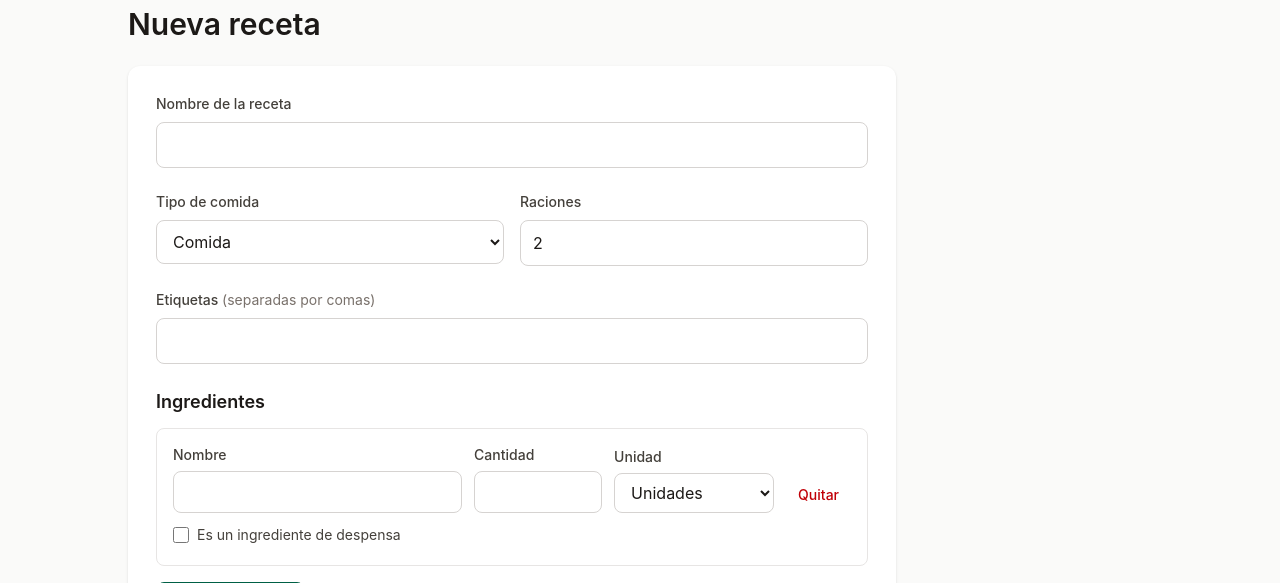
recipe catalog › requires at least one ingredient before saving
The image size is (1280, 583).
Step 1. Type "Sopa" into the field labelled "Nombre de la receta" → (512, 145), box [156,122,868,168]
(page scrolled)
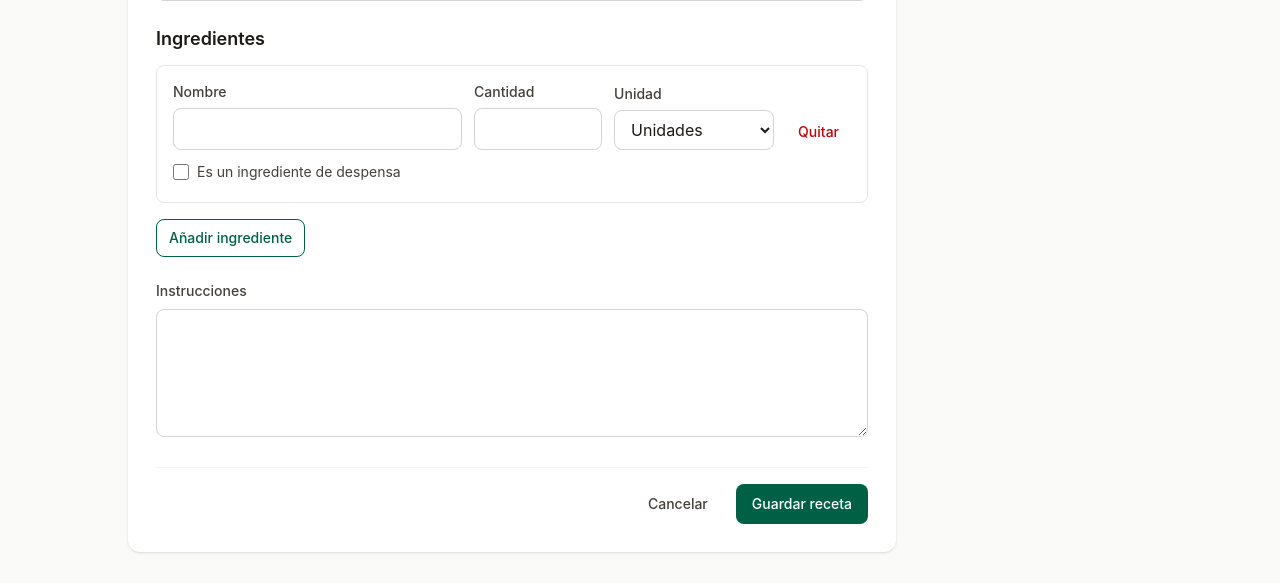
Step 2. Type "Hervir." into the text box labelled "Instrucciones" → (512, 373), box [156,309,868,437]
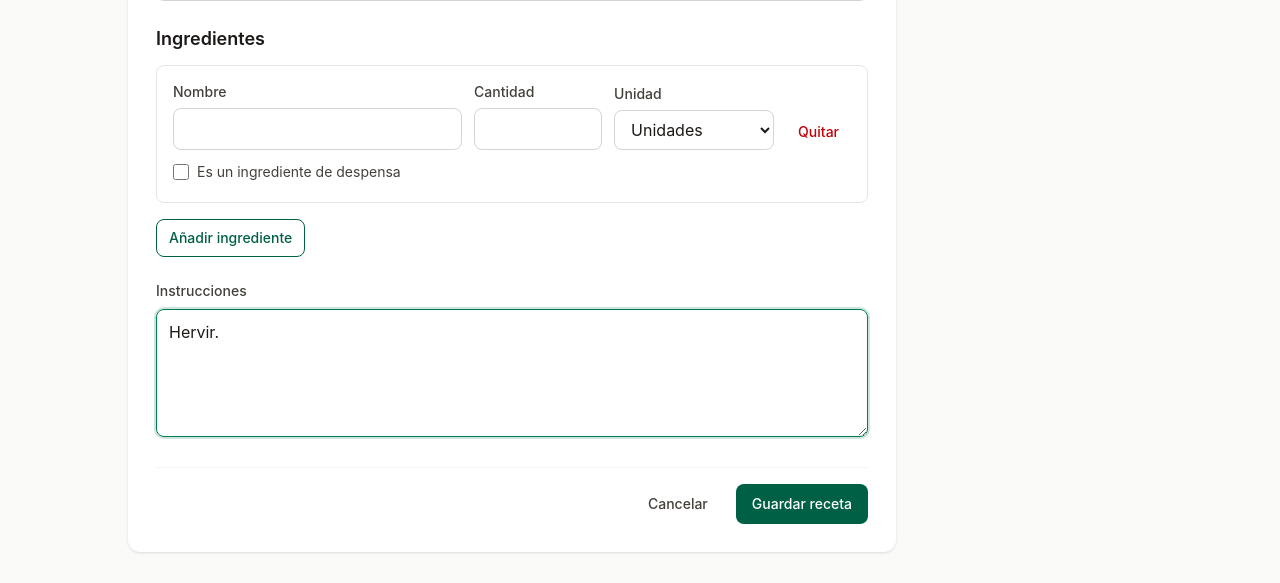
Step 3. Click the button with aria-label "Quitar ingrediente 1" → (819, 132), box [786,114,851,150]
(page scrolled)
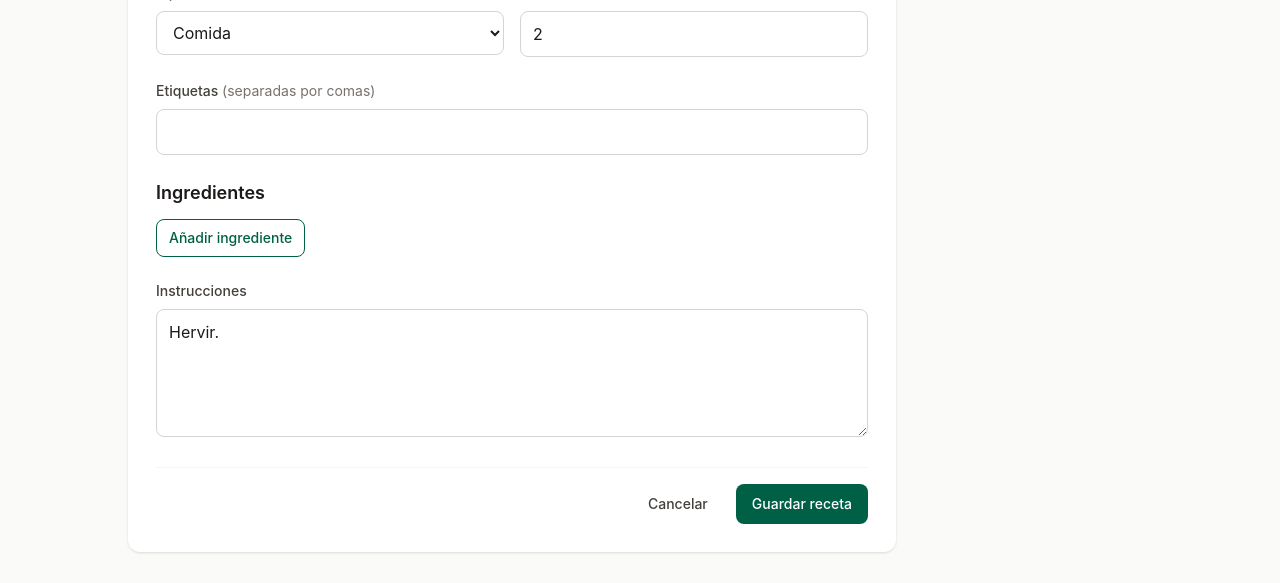
Step 4. Click the button "Guardar receta" → (802, 504), box [736,484,868,524]
(page scrolled)
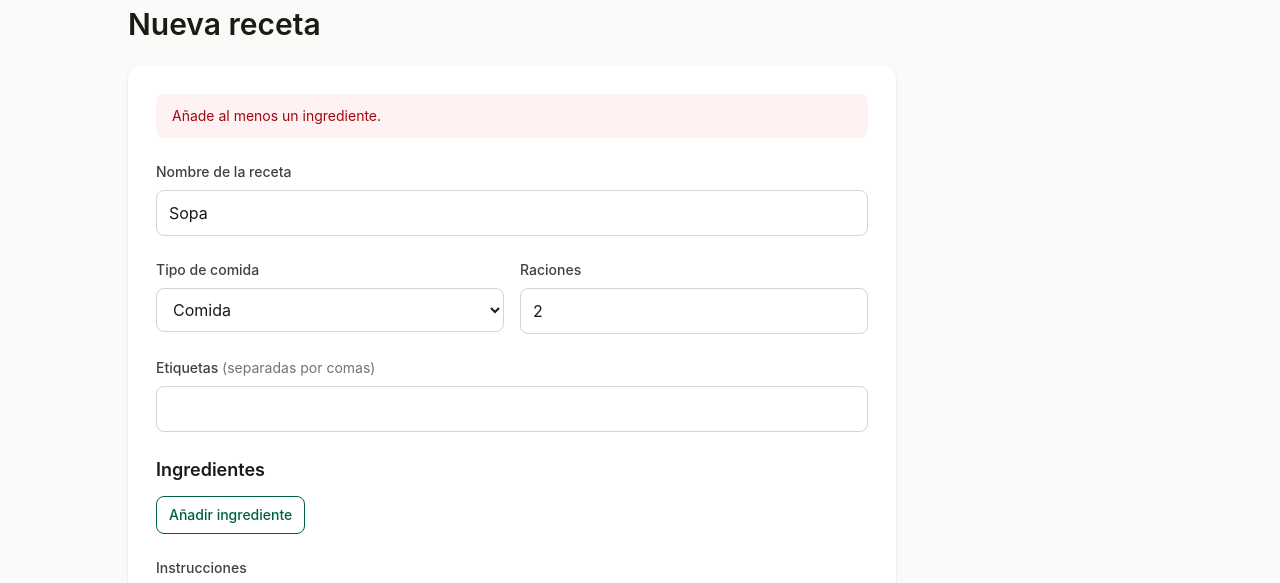
Check: the message reads "Añade al menos un ingrediente.", box [172,107,381,124]
